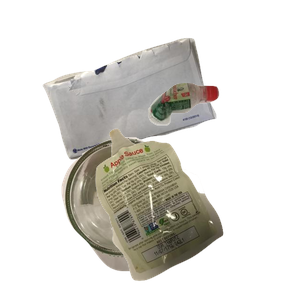glass: (59, 135, 254, 300)
paper: (40, 35, 249, 187)
plastic: (146, 80, 300, 198)
trash: (93, 126, 300, 300)
